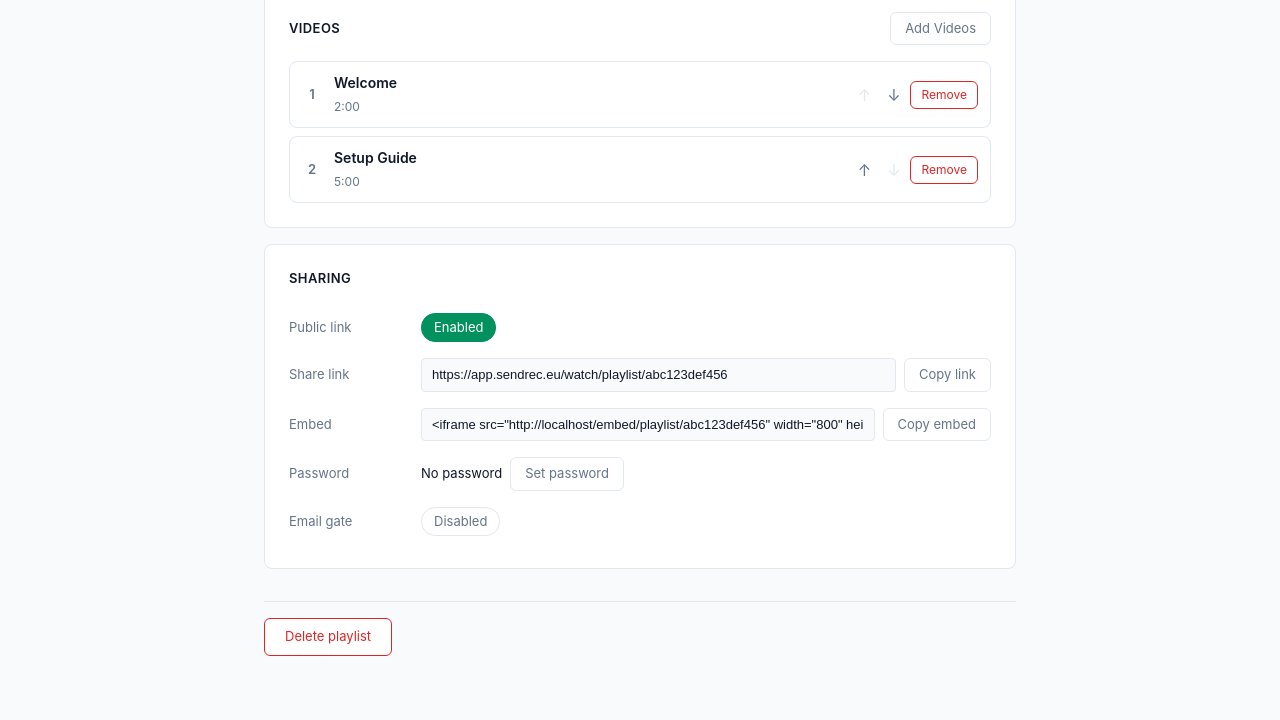
Test: PlaylistDetail › shows confirm dialog before deleting playlist
(page scrolled)
Click the button "Delete playlist" at (328, 637), box [264, 618, 392, 656]
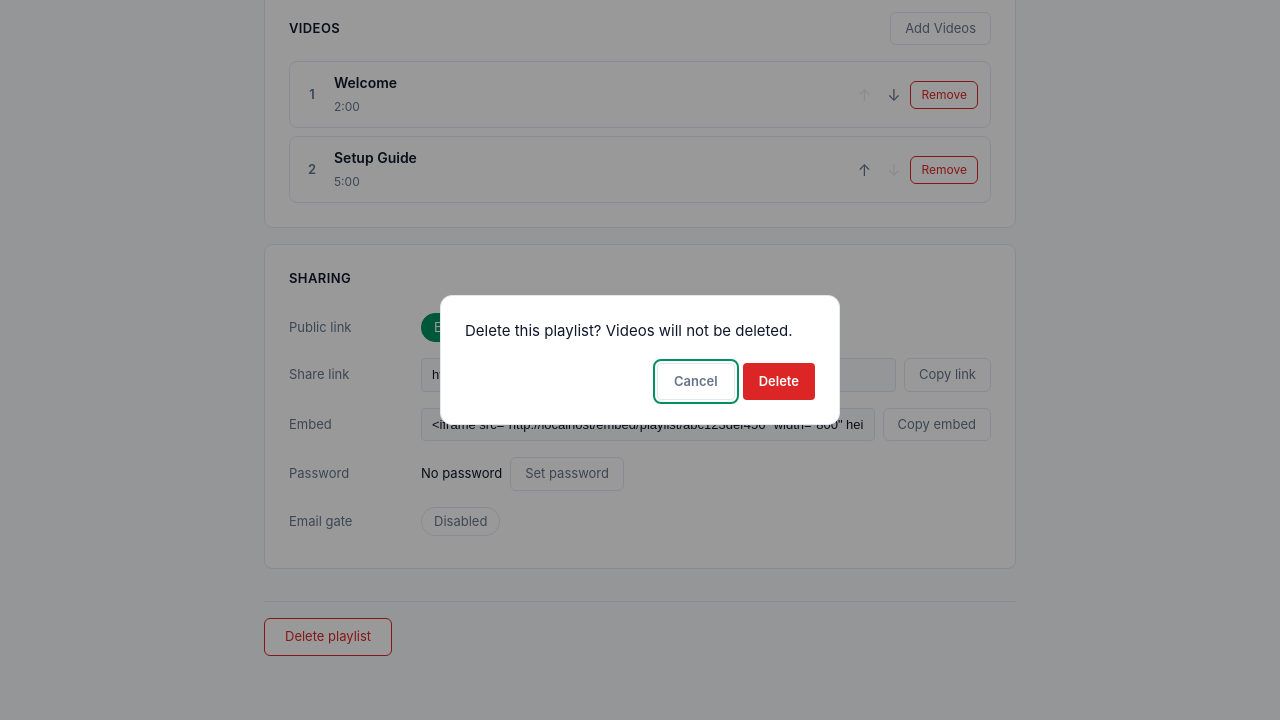
Result: the dialog is shown at [440, 295, 840, 425]
Result: the text "Delete this playlist? Videos will not be deleted." is shown at [465, 320, 815, 342]
Click the button "Cancel" at (696, 381), box [657, 362, 735, 400]
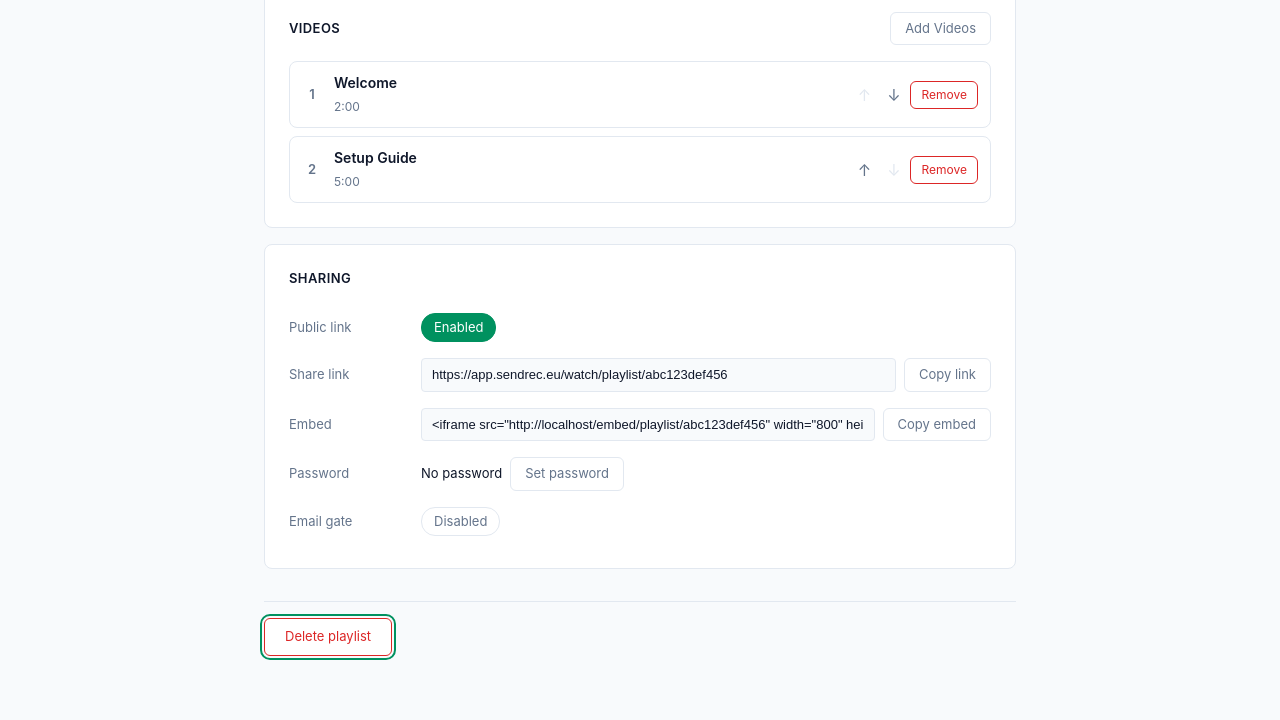
Result: the dialog is gone
